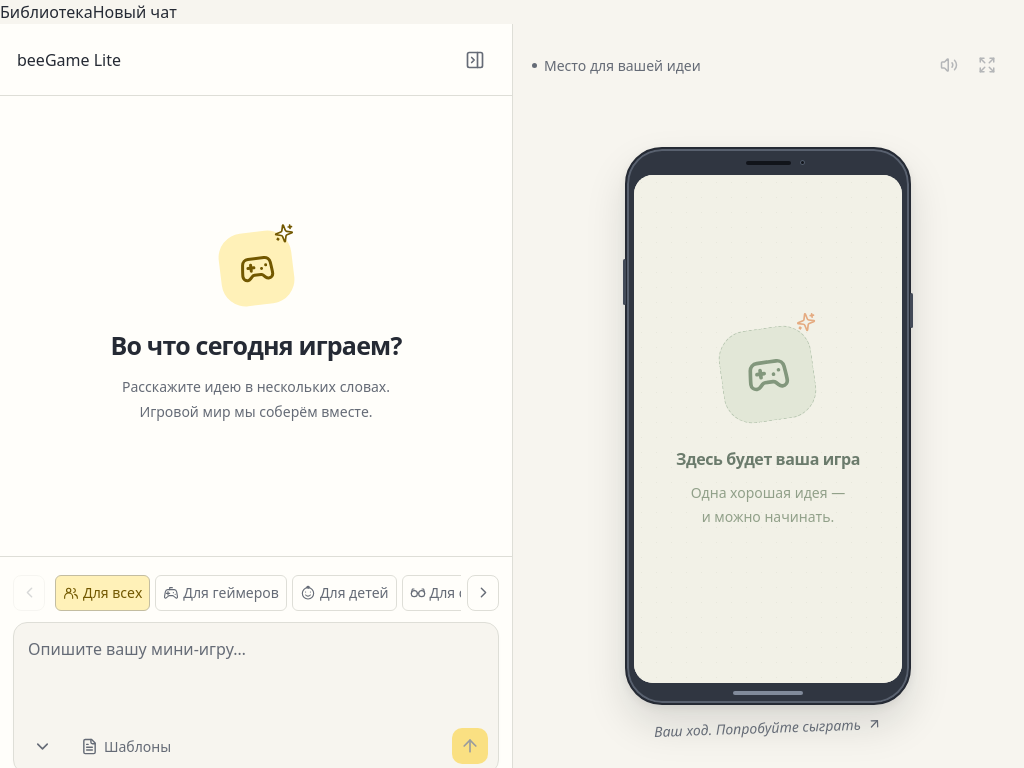
loads templates only through the composer button and inserts without generating
Click the button with aria-label "Использовать шаблон".
click(126, 746)  # box [72,728,180,764]
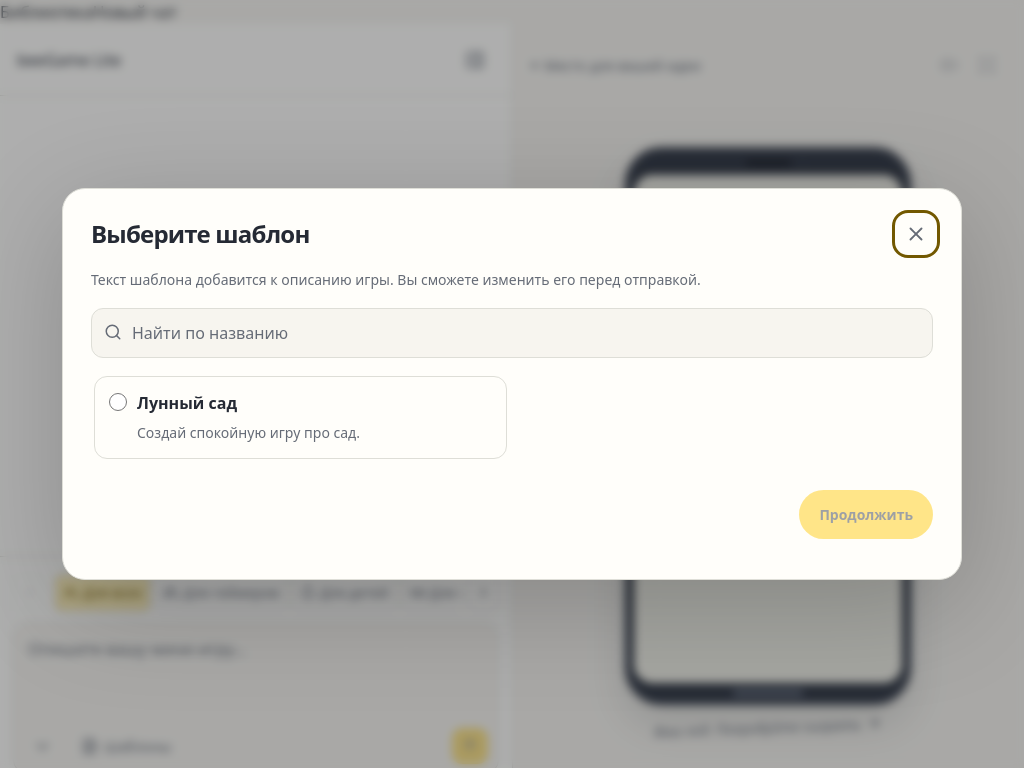
Expected: the button "Продолжить" is disabled, [799,490,933,539]
Type "лунный" into the search field named "Поиск шаблонов по названию".
click(526, 332); type("лунный")  # box [132,308,920,356]
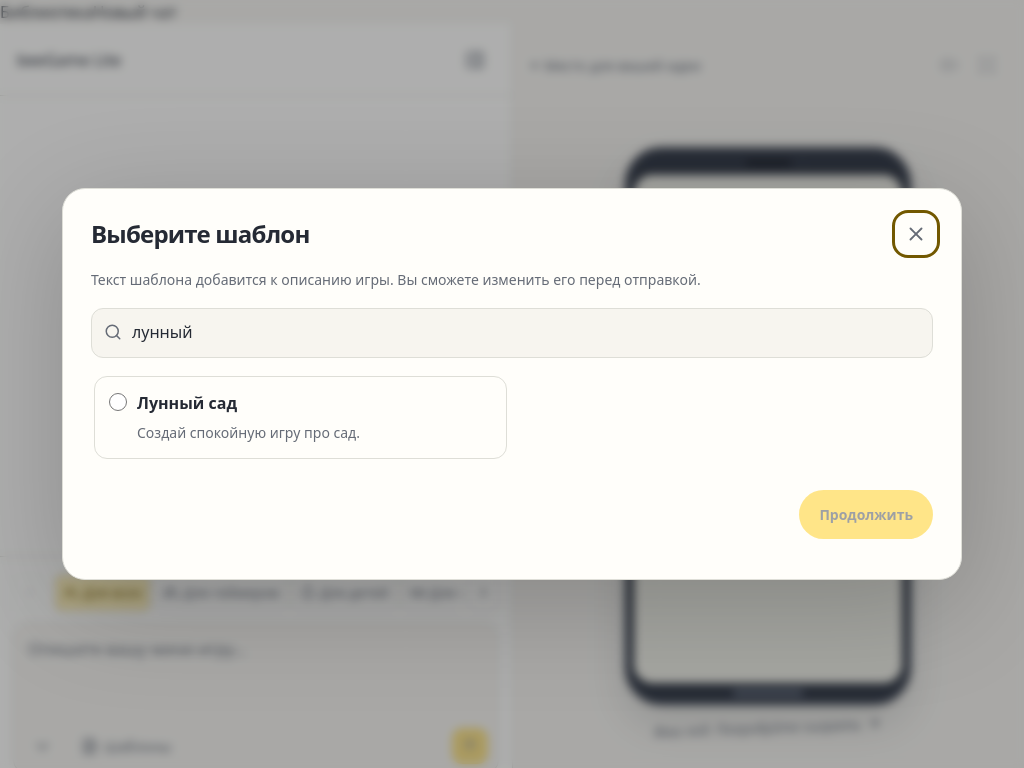
Click the radio button labelled "Лунный сад".
click(118, 402)  # box [109,393,127,411]
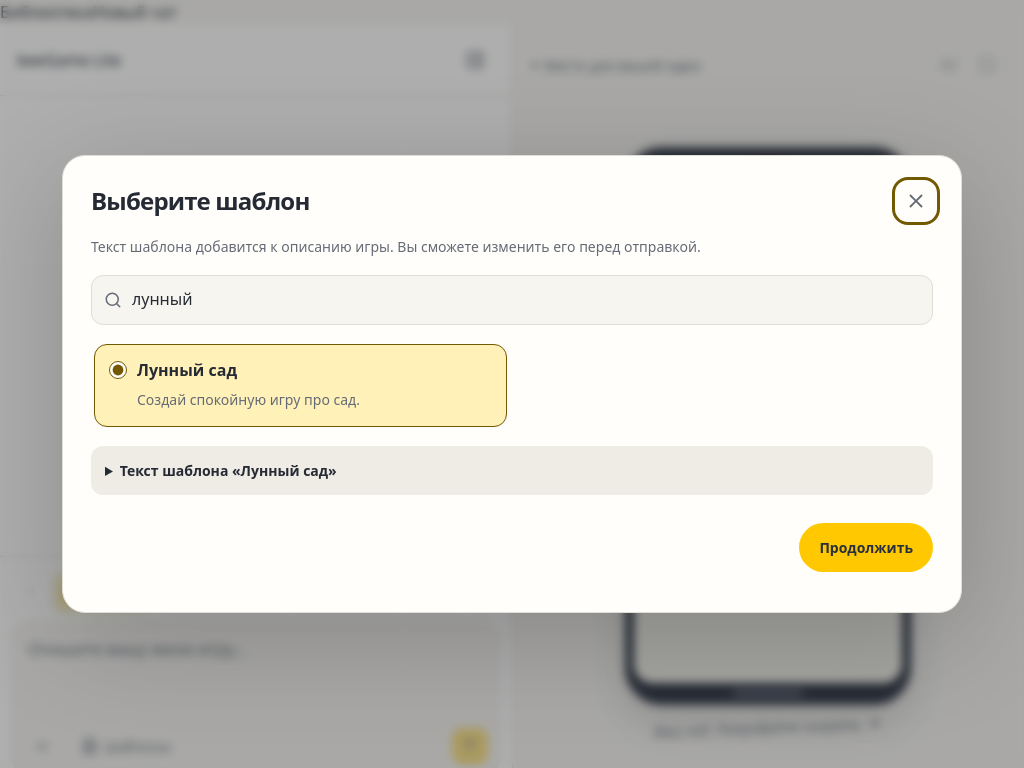
Click the heading "Текст шаблона «Лунный сад»".
click(228, 470)  # box [120,461,337,480]
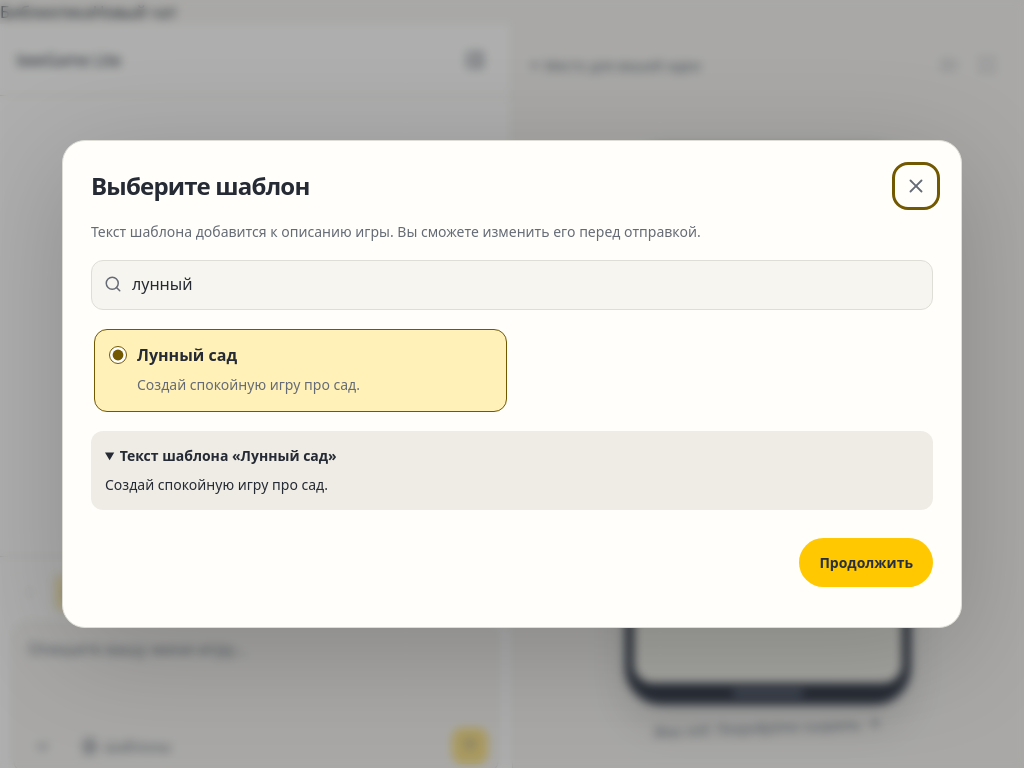
Expected: the element showing "Текст шаблона «Лунный сад» Создай спокойную игру про сад." has attribute open, [91,430,933,510]
Click the button "Продолжить".
click(866, 562)  # box [799,538,933,587]
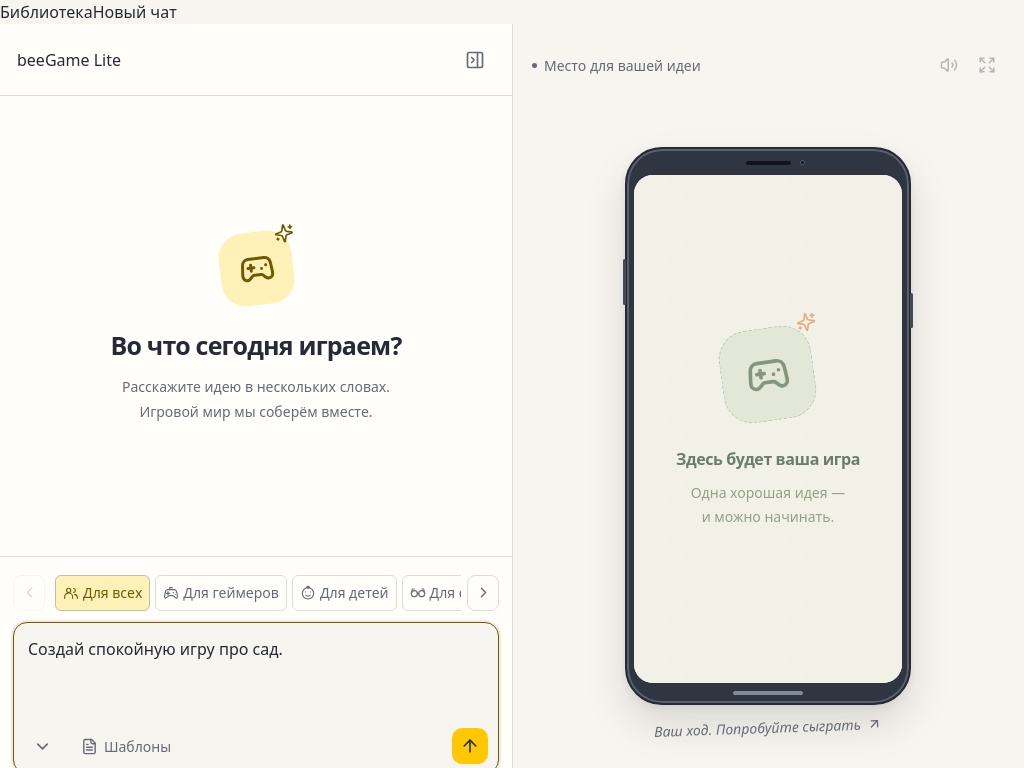
Expected: the text box named "Описание вашей игры" holds "Создай спокойную игру про сад.", [14,623,498,715]
